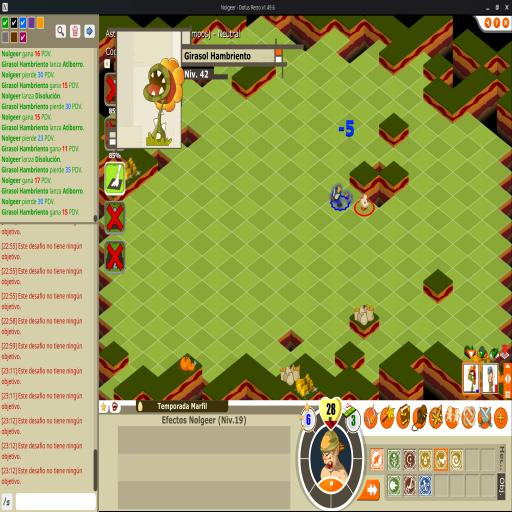Enemigos: (330, 184, 350, 207)
Personaje: (360, 193, 370, 211)
